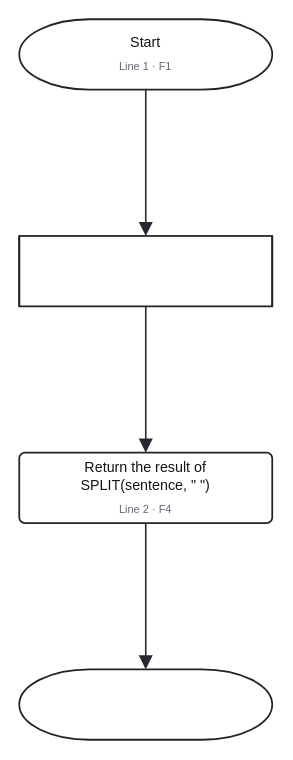
Image size: 293x760. Some labels were removed from this diagram. The box of each missing label's shape, as (x1, y1, x2, y2) in pixels:
End Line 1 · F2: (18, 668, 273, 740)
Run function SPLIT_SENTENCE with sentence Line 1 · F3: (18, 235, 273, 307)
